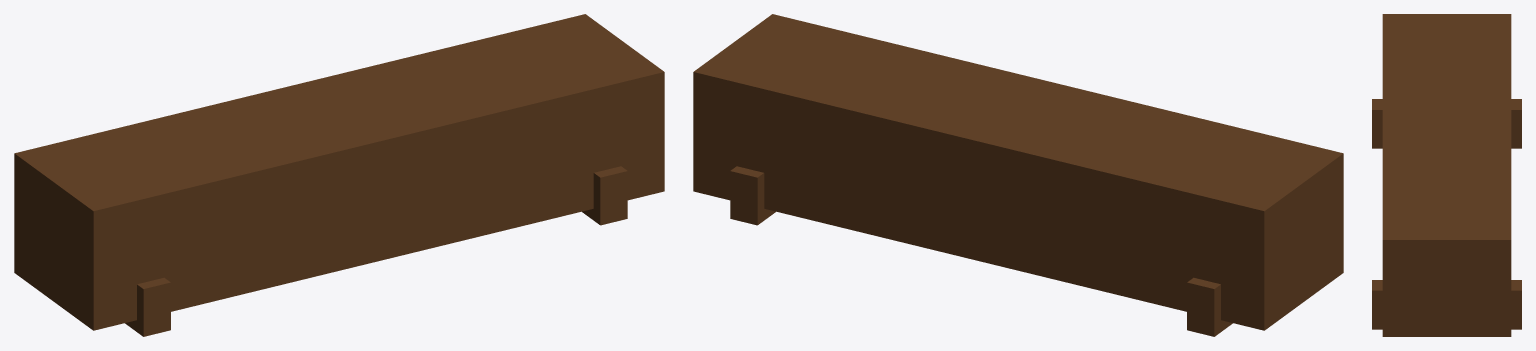
Rendered from Prop_OR_Trough_02.glb.
3 renders of one model, left to right at view 1: azimuth 30°, elevation 25°; view 2: azimuth 150°, elevation 25°; view 3: azimuth 270°, elevation 25°, orthographic. The views are drawn at different scales.
Parts seen in each view (by area): view 1: Prop_OR_Trough_02; view 2: Prop_OR_Trough_02; view 3: Prop_OR_Trough_02.
Part boxes in pixels (x1,y1,x2,y2): Prop_OR_Trough_02: (14,14,664,336); Prop_OR_Trough_02: (693,14,1343,336); Prop_OR_Trough_02: (1372,14,1521,336).
Size of the model in its own units: 2.5 by 0.55 by 0.7.
